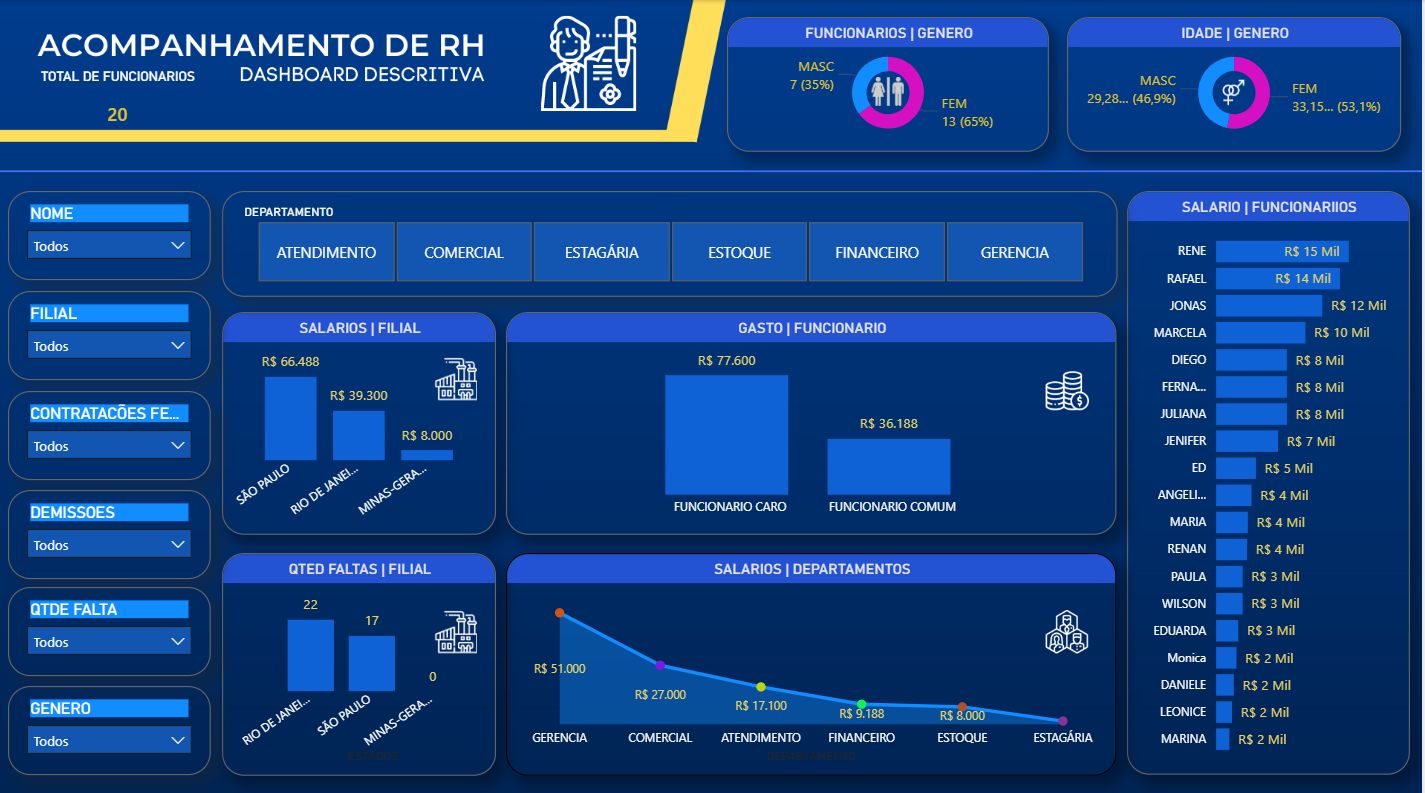

The dashboard page shown, as its layout file describes it:
{"tool":"powerbi","page":{"name":"CONTROLE DE R.H","canvas":[1280,720],"ordinal":0},"visuals":[{"type":"barChart","title":"SALARIO | FUNCIONARIIOS","fields":{"Category":["tb_rh.NOME"],"Y":["tb_rh.TT_SALARIOS"]},"box":[1015.5,171.8,253.6,523.6],"z":0},{"type":"columnChart","title":"QTED FALTAS | FILIAL","fields":{"Y":["tb_rh.SOMA_FALTAS"],"Category":["tb_rh.ESTADOS"]},"box":[202.7,496.4,246.4,200],"z":1000},{"type":"columnChart","title":"SALARIOS | FILIAL","fields":{"Y":["tb_rh.TT_SALARIOS"],"Category":["tb_rh.ESTADOS"]},"box":[202.7,280,246.4,200],"z":2000},{"type":"image","box":[389.1,320.9,48.2,39.1],"z":3000},{"type":"stackedAreaChart","title":"SALARIOS | DEPARTAMENTOS","fields":{"Category":["tb_rh.DEPARTAMENTO"],"Y":["tb_rh.TT_SALARIOS"]},"box":[458.2,496.4,548.2,200],"z":4000},{"type":"slicer","fields":{"Values":["tb_rh.DEPARTAMENTO"]},"box":[202.7,171.8,803.6,94.5],"z":5000},{"type":"image","box":[389.1,547.3,48.2,39.1],"z":6000},{"type":"donutChart","title":"FUNCIONARIOS | GENERO","fields":{"Category":["tb_rh.SEXO"],"Y":["tb_rh.GENERO"]},"box":[656.4,15.5,289.1,120.9],"z":7000},{"type":"donutChart","title":"IDADE | GENERO","fields":{"Category":["tb_rh.SEXO"],"Y":["tb_rh.MEDIA_IDADE"]},"box":[961.8,15.5,300,120.9],"z":8000},{"type":"image","box":[781.8,69.1,37.3,26.4],"z":9000},{"type":"image","box":[1092.7,70.9,37.3,23.6],"z":10000},{"type":"slicer","fields":{"Values":["tb_rh.NOME"]},"box":[10.9,171.8,181.8,80],"z":11000},{"type":"slicer","fields":{"Values":["tb_rh.FILIAL"]},"box":[10.9,260.9,181.8,80],"z":12000},{"type":"slicer","fields":{"Values":["tb_rh.CONTRATACÕES FEITAS"]},"box":[10.9,350.9,181.8,80],"z":13000},{"type":"slicer","fields":{"Values":["tb_rh.DEMISSOES"]},"box":[10.9,440,181.8,80],"z":14000},{"type":"slicer","fields":{"Values":["tb_rh.QTDE FALTA"]},"box":[10.9,527.3,181.8,80],"z":15000},{"type":"slicer","fields":{"Values":["tb_rh.SEXO"]},"box":[10.9,615.5,181.8,80],"z":16000},{"type":"cardVisual","title":"TOTAL DE FUNCIONARIOS","fields":{"Data":["Count(tb_rh.ID)"]},"box":[26.4,61.8,166.4,65.5],"z":17000},{"type":"columnChart","title":"GASTO | FUNCIONARIO","fields":{"Y":["tb_rh.TT_SALARIOS"],"Category":["tb_rh.FUNCIONARIO"]},"box":[458.2,280,548.2,200],"z":18000},{"type":"image","box":[937.3,330.9,48.2,39.1],"z":20000},{"type":"image","box":[937.3,547.3,48.2,39.1],"z":20500}]}

Visuals, with their boxes in screenshot pixels (x1, y1, x2, y2), scaled from the page's 1280x720 canvas onto the 1425x793 screenshot:
"SALARIO | FUNCIONARIIOS" barChart: 1131,189,1413,766
"QTED FALTAS | FILIAL" columnChart: 226,547,500,767
"SALARIOS | FILIAL" columnChart: 226,308,500,529
image: 433,353,487,397
"SALARIOS | DEPARTAMENTOS" stackedAreaChart: 510,547,1120,767
slicer - tb_rh.DEPARTAMENTO: 226,189,1120,293
image: 433,603,487,646
"FUNCIONARIOS | GENERO" donutChart: 731,17,1053,150
"IDADE | GENERO" donutChart: 1071,17,1405,150
image: 870,76,912,105
image: 1216,78,1258,104
slicer - tb_rh.NOME: 12,189,215,277
slicer - tb_rh.FILIAL: 12,287,215,375
slicer - tb_rh.CONTRATACÕES FEITAS: 12,386,215,475
slicer - tb_rh.DEMISSOES: 12,485,215,573
slicer - tb_rh.QTDE FALTA: 12,581,215,669
slicer - tb_rh.SEXO: 12,678,215,766
"TOTAL DE FUNCIONARIOS" cardVisual: 29,68,215,140
"GASTO | FUNCIONARIO" columnChart: 510,308,1120,529
image: 1043,364,1097,408
image: 1043,603,1097,646
